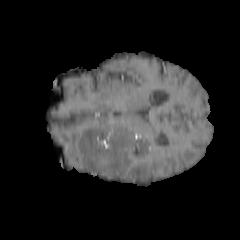glioma: (77, 126, 153, 173)
